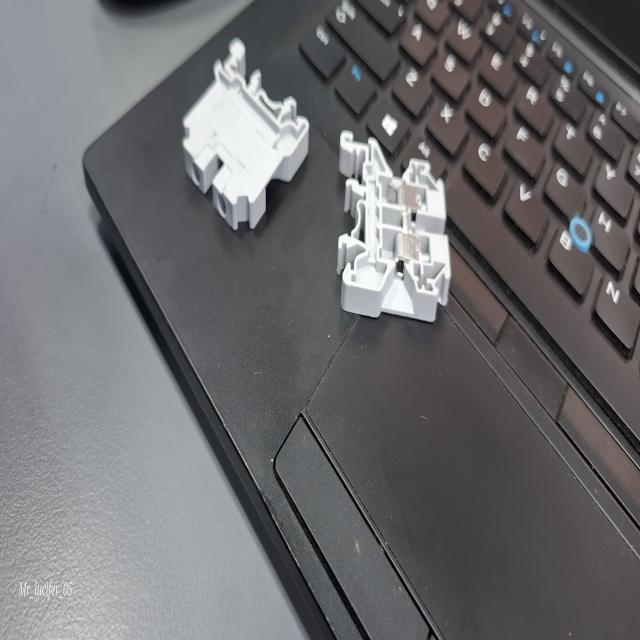Inverted: (182, 35, 310, 233)
Pass: (336, 124, 452, 326)
